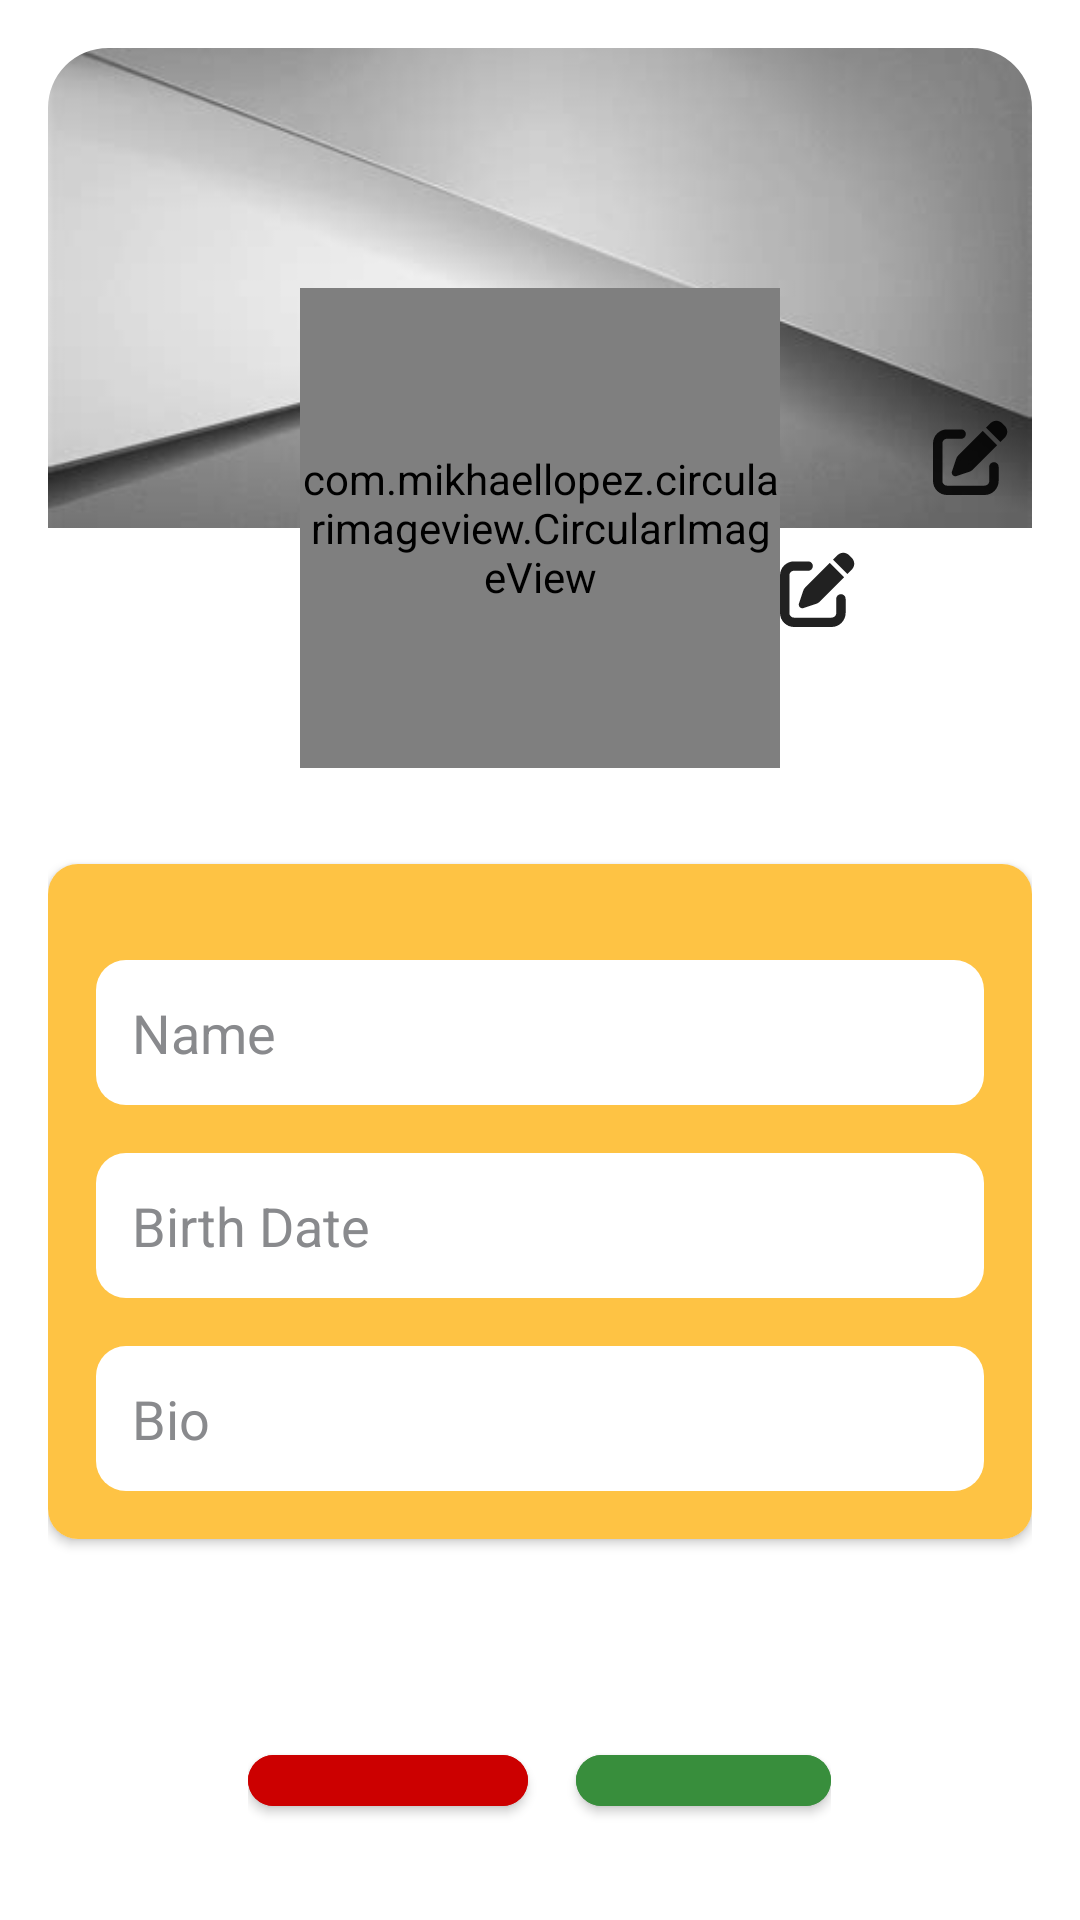

Icon click points for this 1080 × 1920 phone screenshot, format [x,y]:
Edit Photo: [970,457], [817,589]
